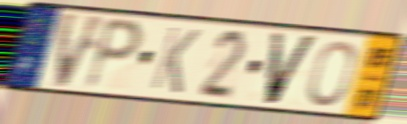2: (195, 27, 249, 103)
K: (147, 24, 203, 97)
O: (306, 39, 358, 109)
P: (81, 15, 146, 94)
V: (51, 9, 110, 91), (263, 29, 322, 107)
